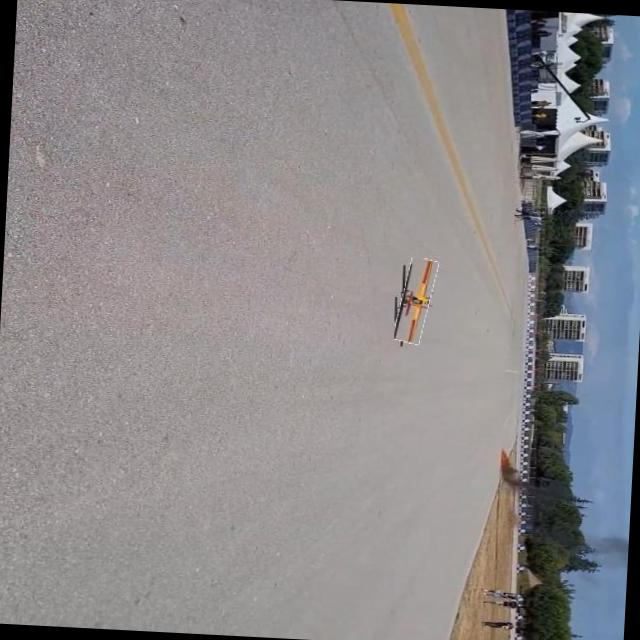UAV: (376, 253, 451, 364)
